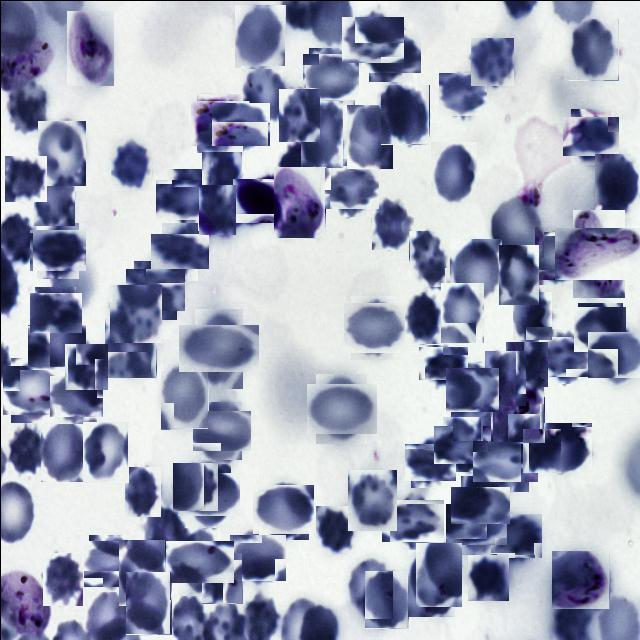leukocyte: (234, 174, 286, 224)
red blood cell: (186, 316, 250, 380), (310, 378, 371, 438), (488, 192, 543, 257), (448, 238, 501, 302), (346, 298, 403, 356), (6, 361, 64, 418), (234, 4, 285, 68), (104, 316, 156, 378), (160, 362, 208, 428), (568, 17, 618, 80), (407, 549, 454, 616), (40, 416, 88, 481), (37, 119, 85, 184), (477, 430, 532, 486), (118, 539, 164, 605), (255, 481, 310, 536), (109, 284, 161, 342), (347, 469, 396, 530), (171, 534, 226, 588), (346, 104, 392, 168), (346, 554, 392, 618), (415, 542, 461, 606), (380, 84, 429, 144), (344, 12, 398, 66), (124, 571, 170, 634), (594, 153, 638, 217), (300, 100, 342, 167), (532, 228, 584, 282), (430, 141, 476, 202), (82, 421, 128, 482), (240, 65, 288, 122), (386, 494, 438, 546), (182, 468, 234, 520), (364, 25, 416, 77), (540, 422, 592, 474), (449, 498, 501, 550), (590, 327, 640, 381), (440, 282, 484, 343), (231, 531, 283, 582), (85, 537, 137, 588), (304, 50, 356, 101), (160, 173, 212, 224), (214, 99, 266, 150), (129, 264, 180, 315), (364, 570, 408, 628), (30, 320, 81, 370), (502, 341, 548, 396), (324, 162, 374, 212), (448, 364, 497, 414), (575, 304, 624, 353), (32, 226, 82, 274), (196, 406, 246, 454), (498, 244, 538, 304), (408, 230, 450, 287), (142, 504, 186, 558), (484, 350, 526, 406), (454, 481, 504, 528), (452, 382, 492, 440), (566, 112, 614, 160), (492, 512, 540, 560), (276, 86, 318, 140), (541, 332, 589, 379), (172, 462, 218, 511), (371, 196, 413, 249), (52, 372, 100, 418), (469, 37, 514, 86), (110, 137, 151, 190), (33, 172, 74, 225), (156, 227, 202, 274), (6, 423, 46, 477), (6, 80, 47, 132), (42, 552, 82, 605), (439, 71, 485, 117), (32, 289, 78, 335), (201, 552, 242, 603), (64, 343, 108, 390), (438, 421, 483, 466), (404, 291, 442, 344), (407, 439, 451, 484), (315, 505, 355, 554), (512, 291, 552, 340), (201, 151, 241, 200), (4, 155, 46, 201), (467, 553, 508, 600), (198, 184, 235, 234), (124, 466, 160, 516), (421, 342, 463, 383), (522, 428, 560, 472)
trophozoite: (563, 218, 633, 288), (273, 166, 325, 238), (66, 10, 114, 86), (490, 378, 544, 442), (551, 550, 609, 608), (192, 96, 245, 148)
